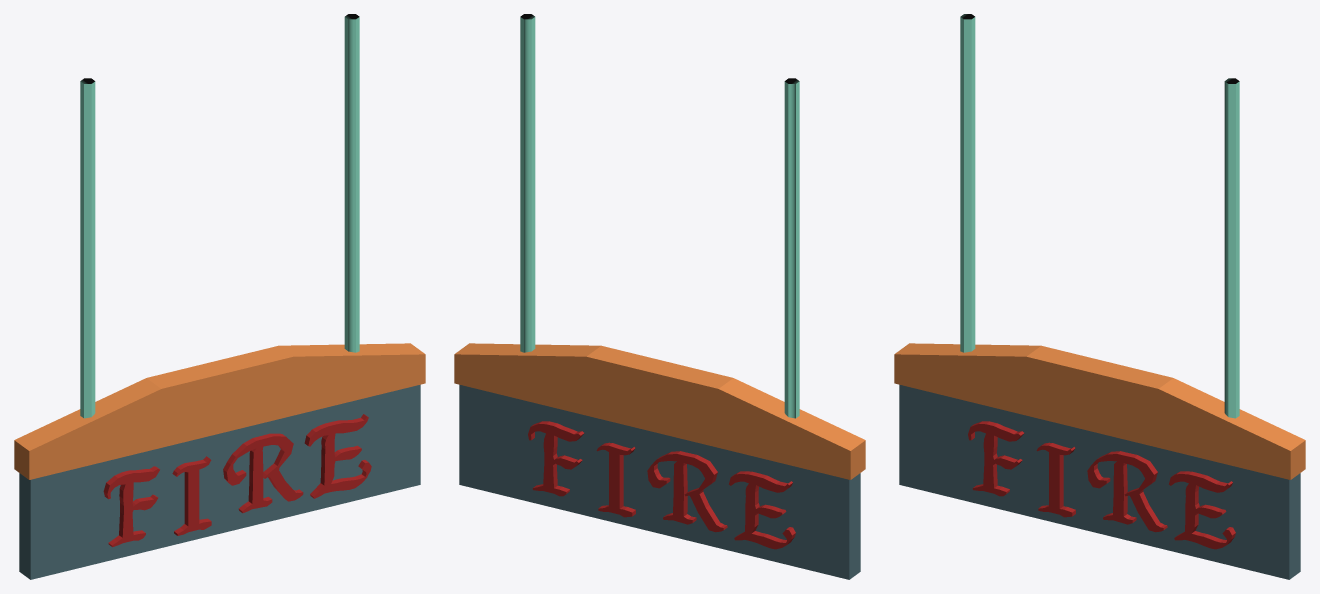
Rendered from StoreSigns.fbx_Fire.fbx.
3 renders of one model, left to right at view 1: azimuth 30°, elevation 25°; view 2: azimuth 150°, elevation 25°; view 3: azimuth 330°, elevation 25°, orthographic.
Visible parts, largest first — view 1: Fire; view 2: Fire; view 3: Fire.
Boxes of the visible parts, x1=… form: Fire: x1=14, y1=14, x2=425, y2=579; Fire: x1=454, y1=14, x2=865, y2=579; Fire: x1=894, y1=14, x2=1305, y2=579.
Bounding box in the file's own units: 52 × 610 × 705.
